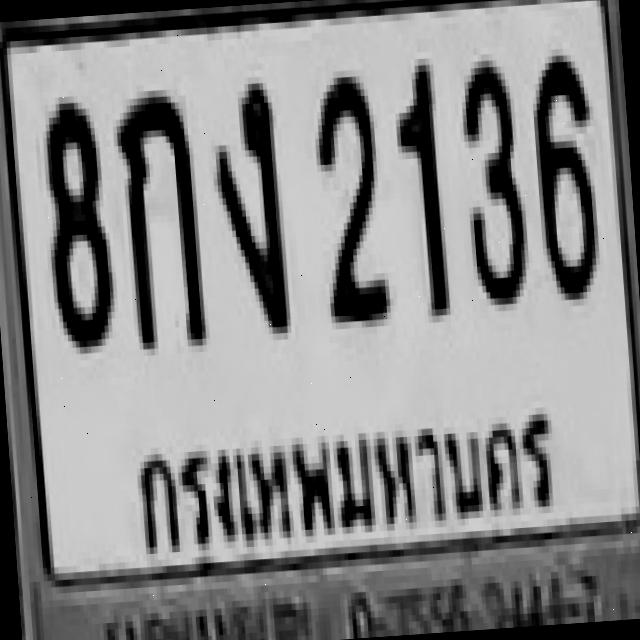1: (390, 61, 448, 314)
10GorGai: (110, 88, 202, 350)
16NgorNgu: (206, 76, 287, 330)
2: (308, 69, 386, 323)
3: (454, 52, 528, 306)
6: (527, 47, 600, 301)
8: (36, 94, 113, 348)
Bangkok: (124, 388, 582, 573)
